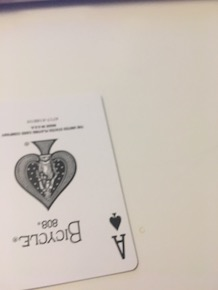AceOfSpades: (1, 87, 140, 288)
